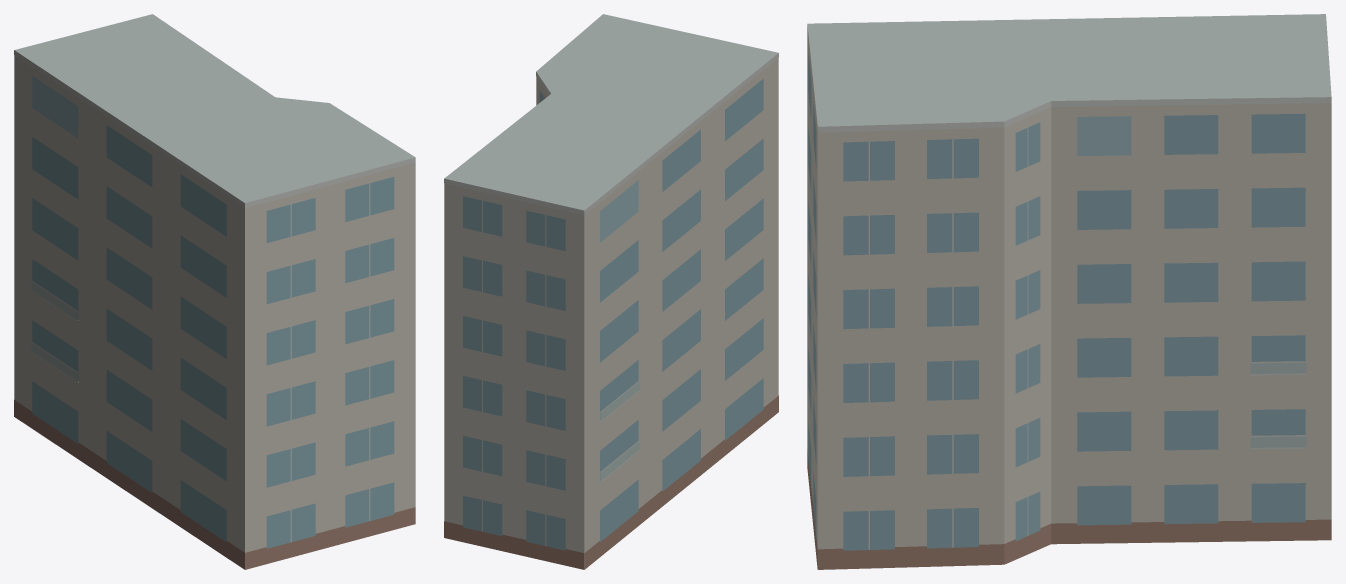
The model's file is survey-upis-32944059.glb.
3 renders of one model, left to right at view 1: azimuth 30°, elevation 25°; view 2: azimuth 150°, elevation 25°; view 3: azimuth 270°, elevation 25°, orthographic. The views are drawn at different scales.
Parts seen in each view (by area): view 1: survey-upis-32944059.tmp; view 2: survey-upis-32944059.tmp; view 3: survey-upis-32944059.tmp.
Part boxes in pixels (bbox=[...]): survey-upis-32944059.tmp: bbox=[14, 14, 415, 569]; survey-upis-32944059.tmp: bbox=[444, 14, 778, 569]; survey-upis-32944059.tmp: bbox=[807, 14, 1331, 569].
Size of the model in its own units: 9.83 by 18 by 19.31.
